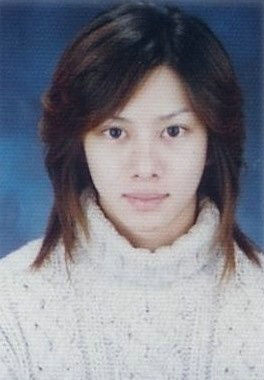unmask: (88, 74, 211, 226)
